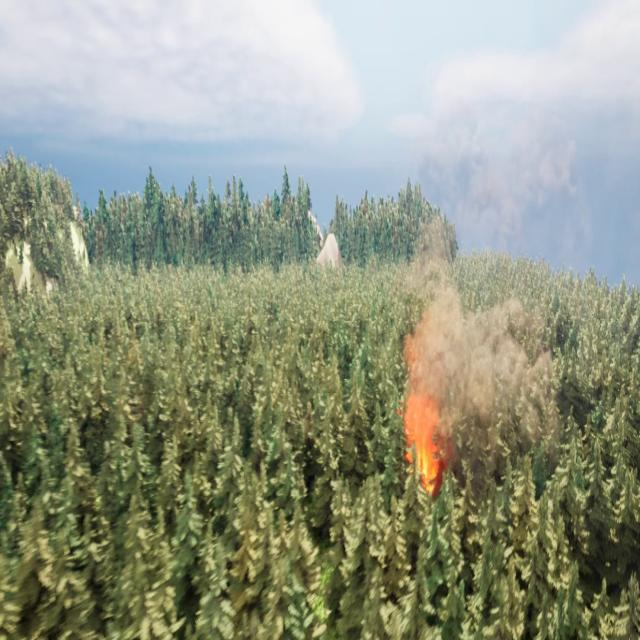fire: (403, 395, 445, 481)
smoke: (400, 258, 548, 477)
